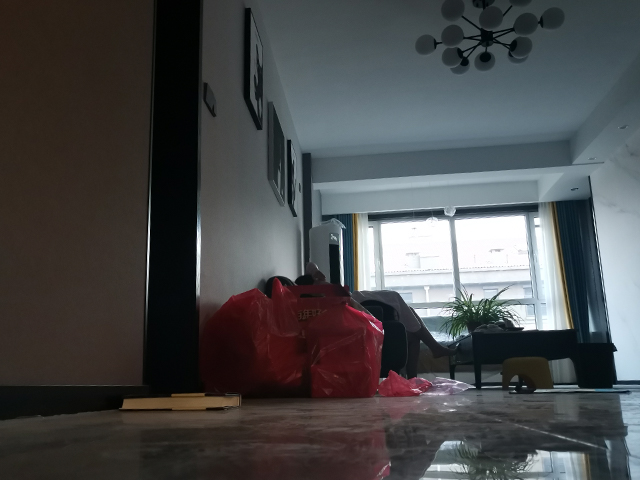book: (114, 391, 242, 413)
carpet: (507, 387, 629, 394)
curtain: (539, 203, 597, 337)
stool: (499, 355, 552, 392)
table: (445, 327, 577, 391)
trashcan: (572, 340, 619, 389)
